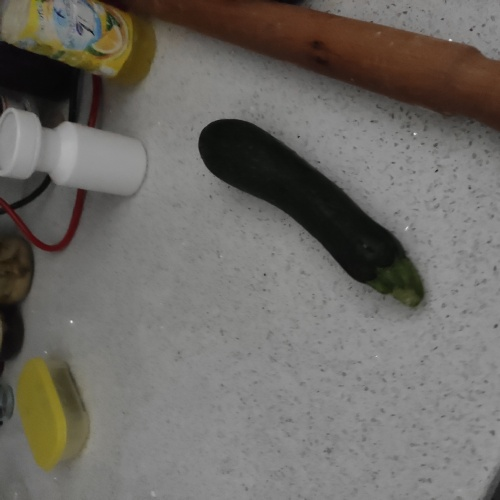zucchine: (201, 118, 420, 315)
